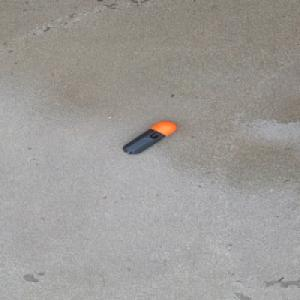PlasticPart: (121, 120, 178, 154)
